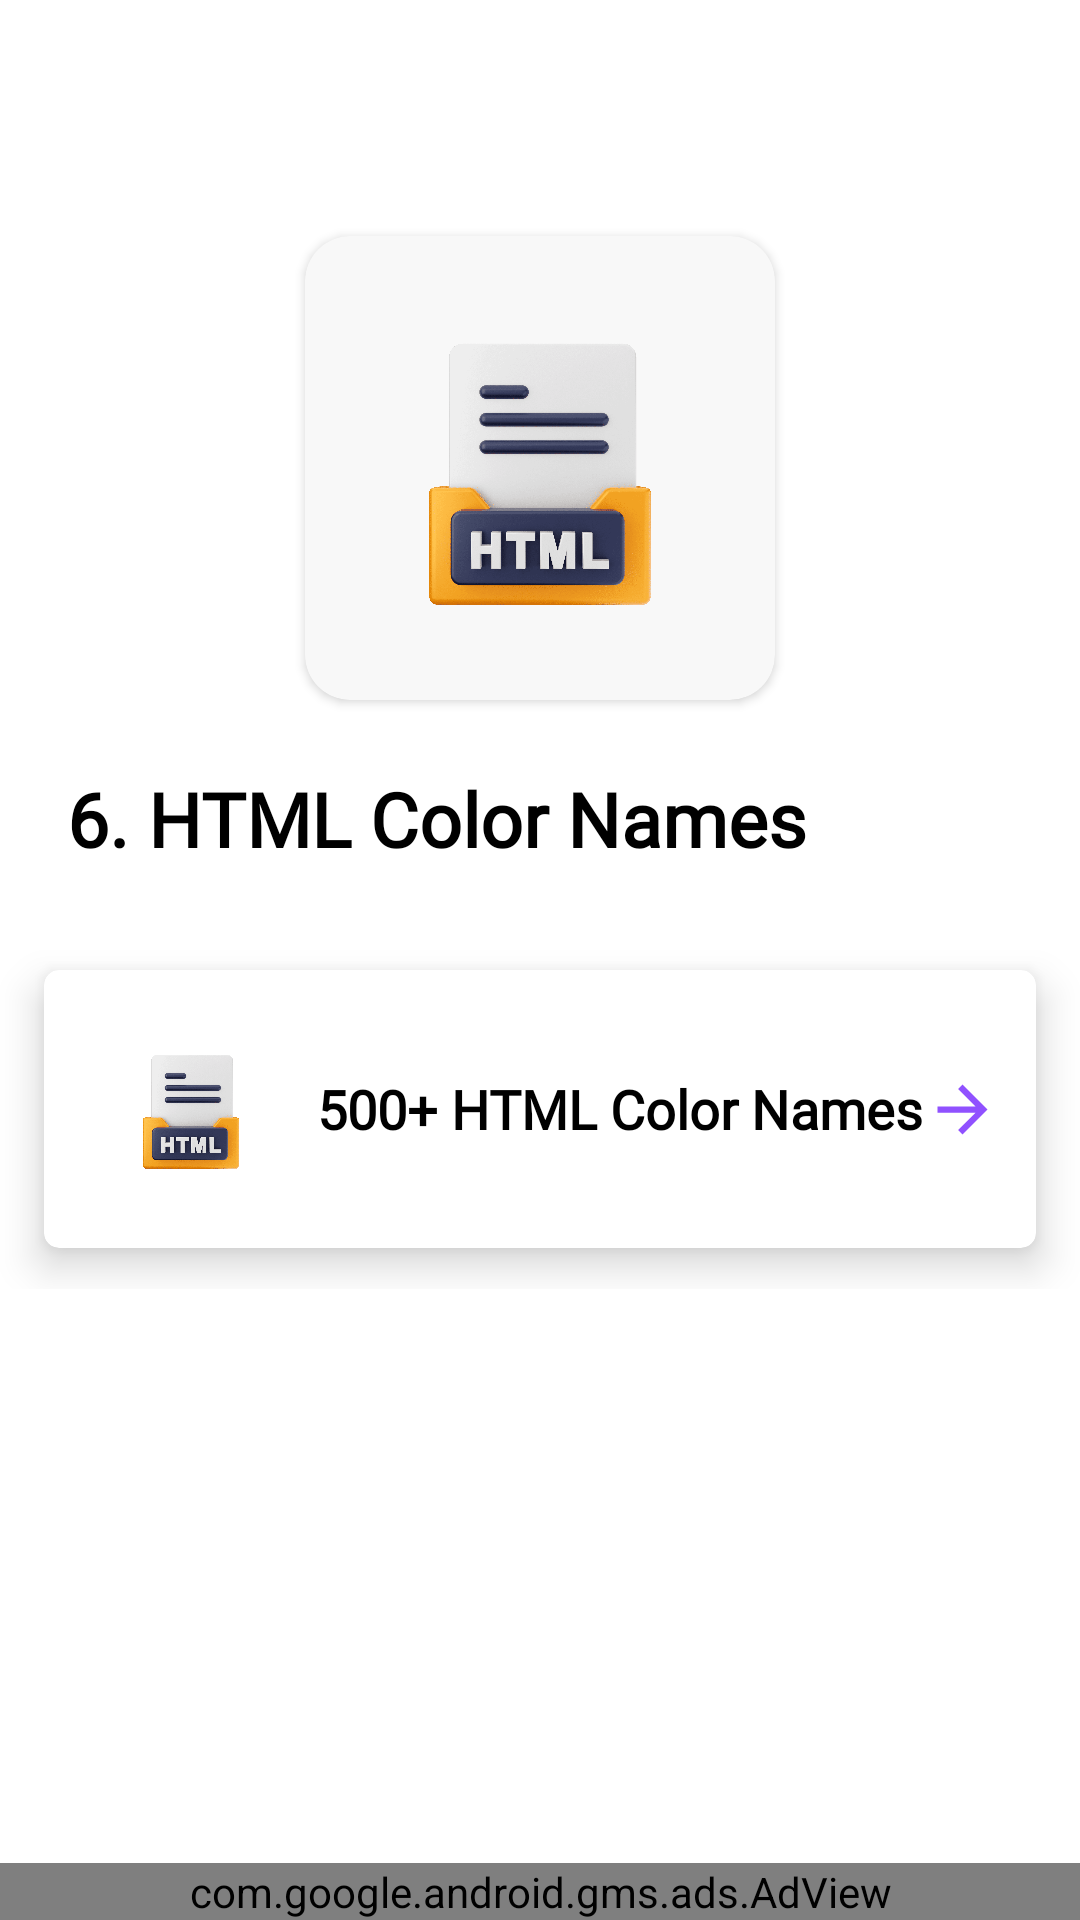

Named icons in this screenshot (1080 x 1920) and their centers, [x,y]:
arrow forward: [962,1109]
